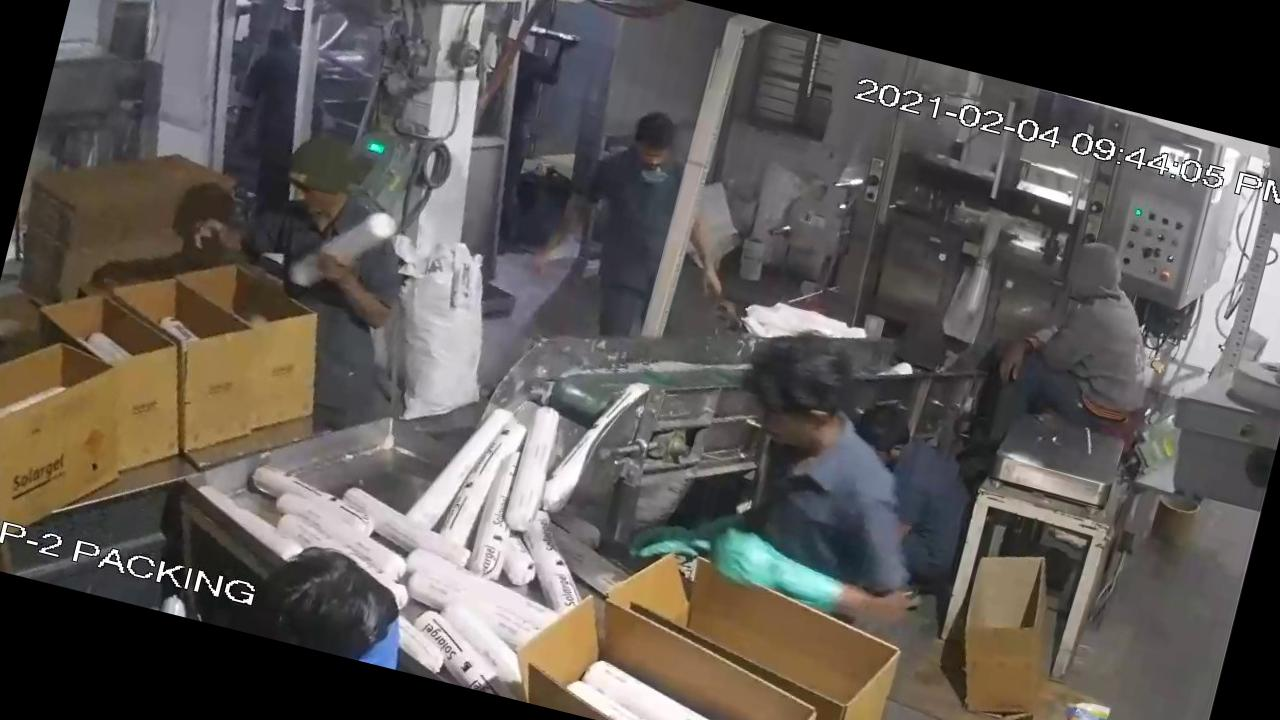Gloves: (690, 513, 870, 632), (624, 483, 752, 588)
No-gloves: (293, 240, 417, 346), (520, 168, 609, 302), (663, 198, 748, 308), (180, 202, 266, 276), (978, 320, 1054, 392)
